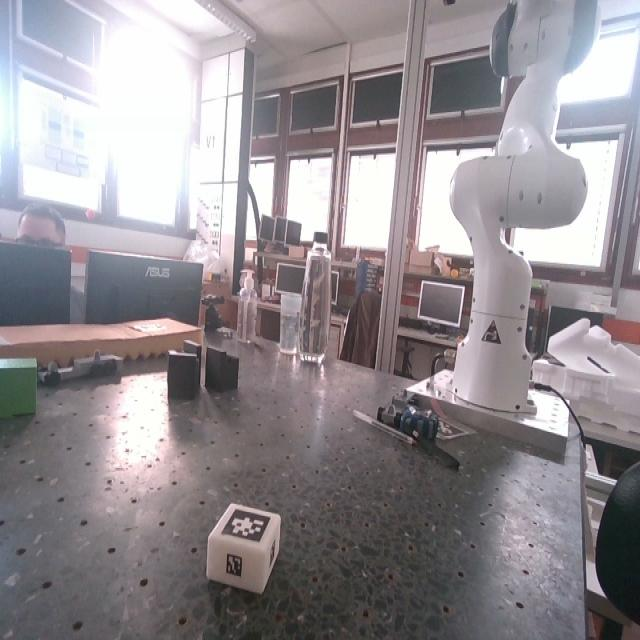Cube: (208, 501, 284, 592)
